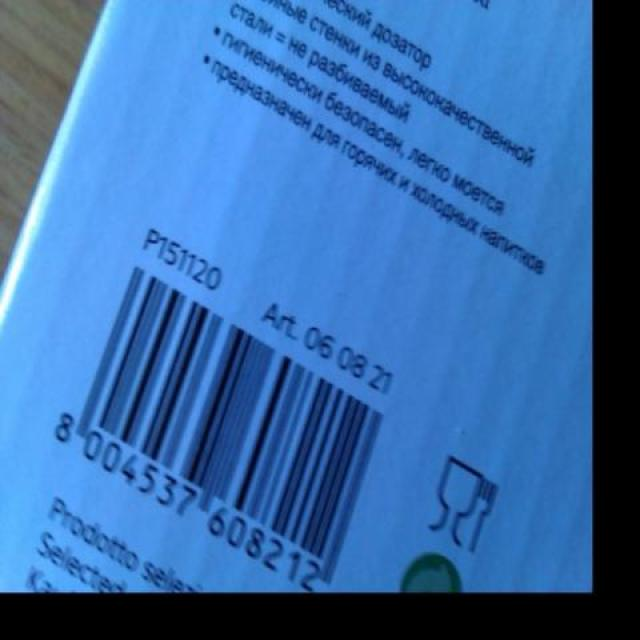Barcode: (40, 251, 397, 584)
